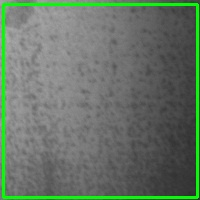pitted_surface: (3, 4, 197, 197)
